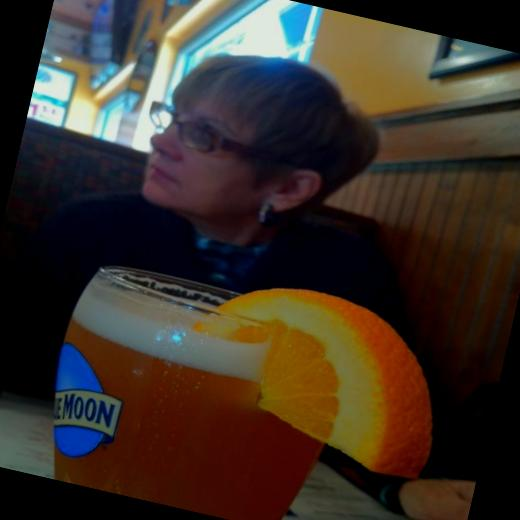Grape: (172, 263, 460, 483)
